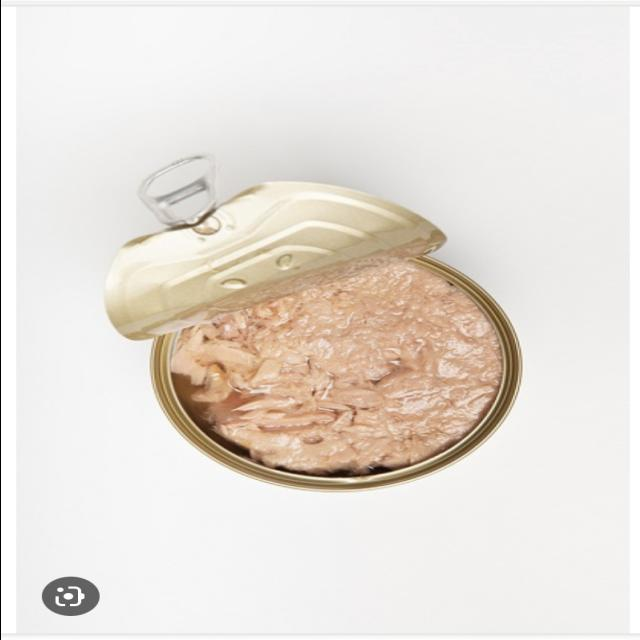can: (70, 148, 542, 491)
